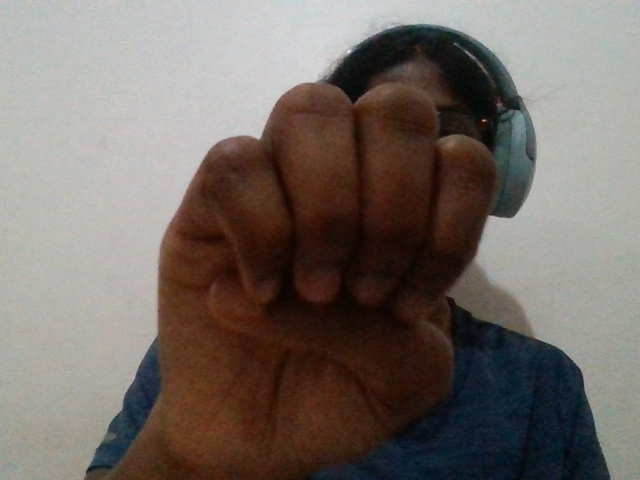E: (119, 48, 508, 454)
